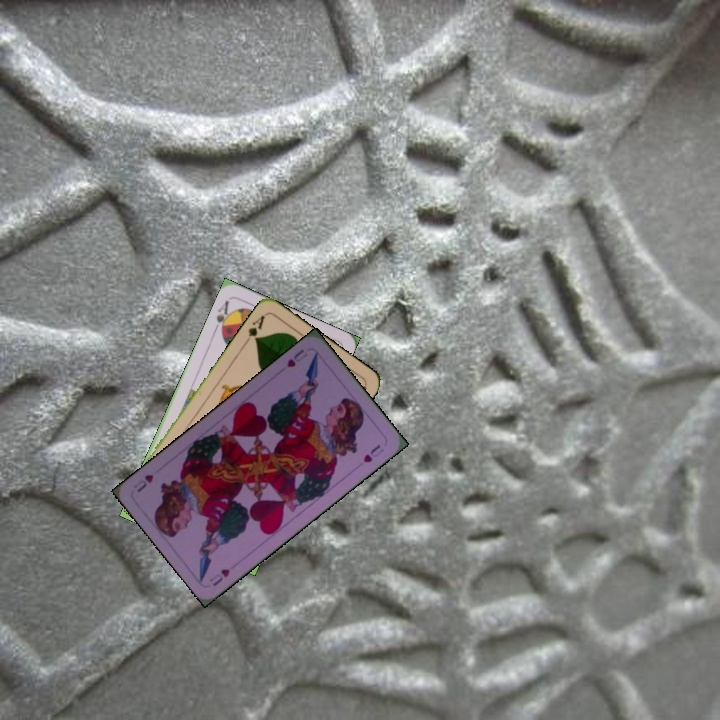GA: (240, 311, 267, 347)
HU: (205, 564, 233, 589), (283, 345, 310, 370)
SA: (210, 296, 235, 337)
